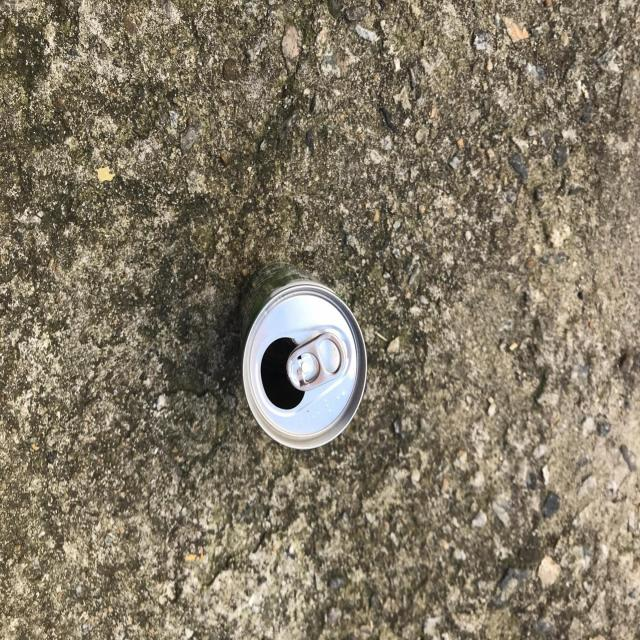can: (240, 262, 367, 450)
